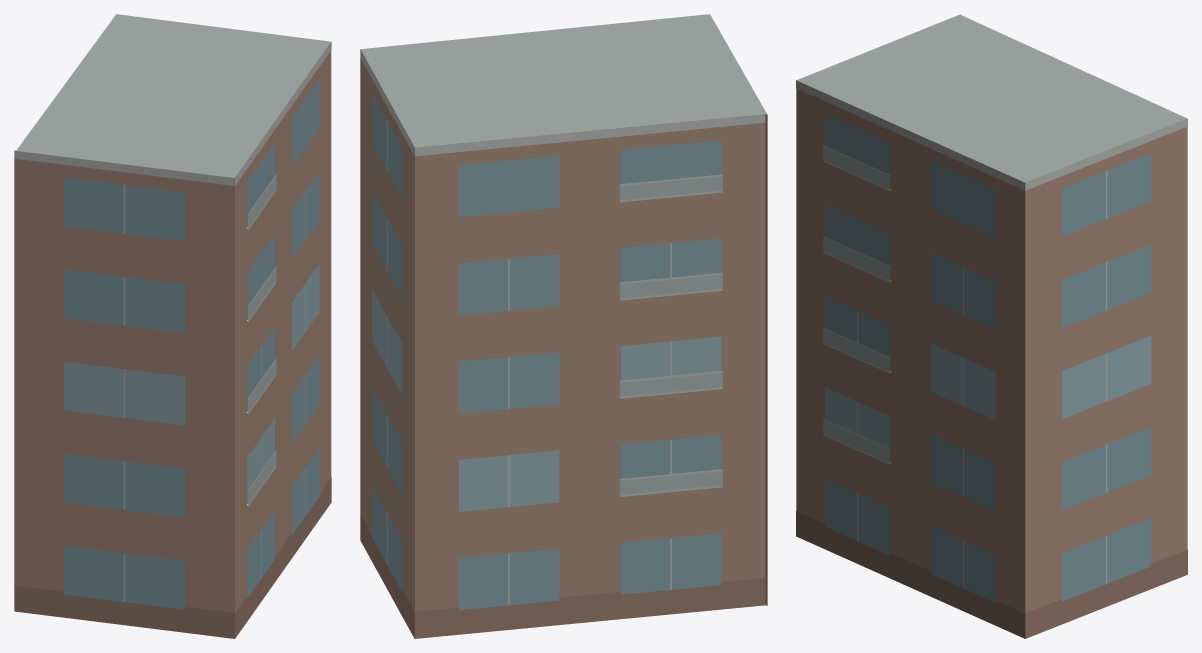
File: survey-upis-32835191.glb
3 views of the same model, side by side, from view 1: azimuth 30°, elevation 25°; view 2: azimuth 150°, elevation 25°; view 3: azimuth 270°, elevation 25° (orthographic). The views are drawn at different scales.
Visible parts, largest first — view 1: survey-upis-32835191.tmp; view 2: survey-upis-32835191.tmp; view 3: survey-upis-32835191.tmp.
Boxes of the visible parts, x1=… form: survey-upis-32835191.tmp: x1=14, y1=14, x2=331, y2=638; survey-upis-32835191.tmp: x1=360, y1=14, x2=767, y2=638; survey-upis-32835191.tmp: x1=796, y1=14, x2=1187, y2=638.
Size of the model in its own units: 11.08 by 13.95 by 10.86.
